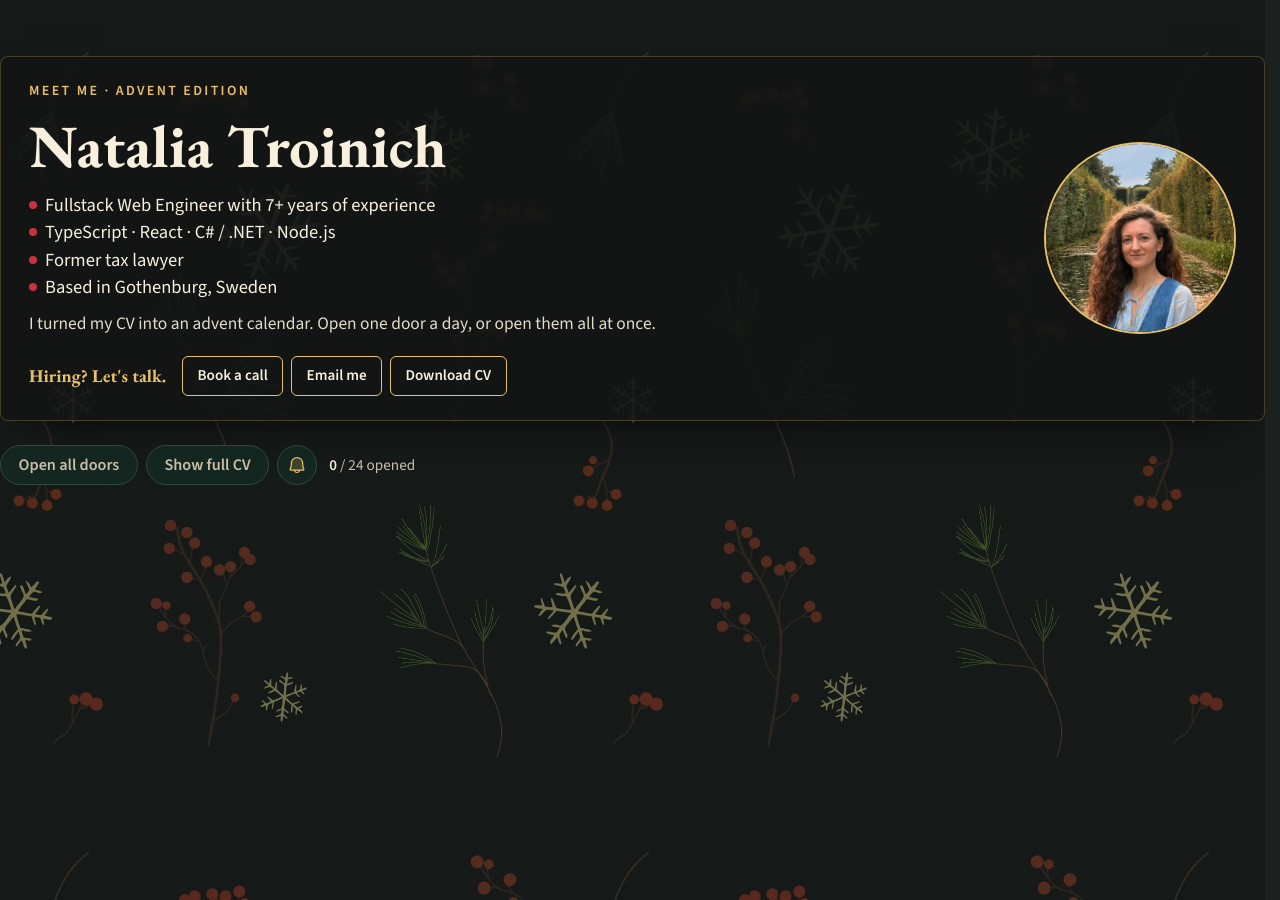
Test: Header photo zoom › clicking the photo opens a large version
The image size is (1280, 900).
Step 1. Click the button named "Say hej: photo and intro" → (1140, 238), box [1044, 142, 1236, 334]
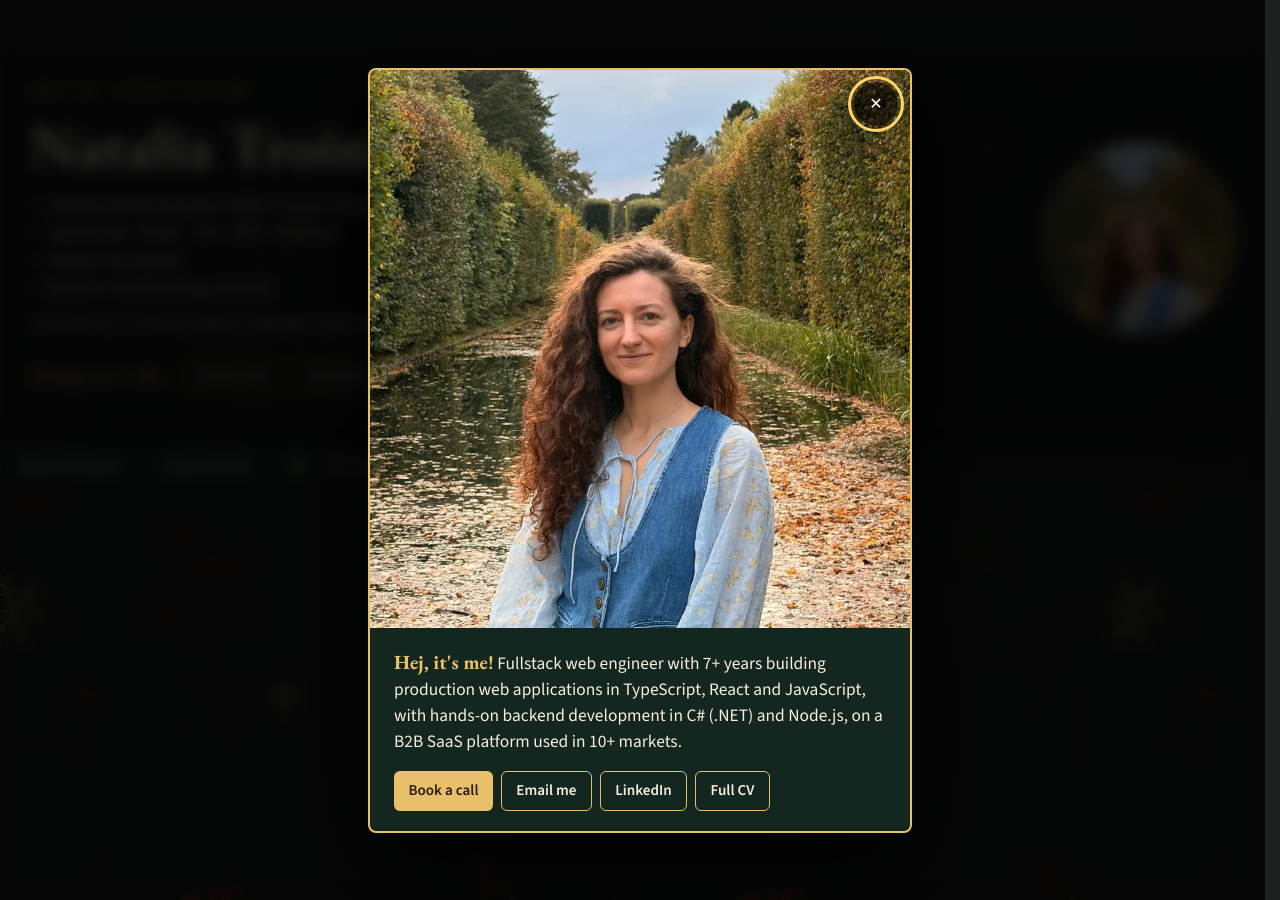
Result: the dialog named "Photo of Natalia Troinich" shows "Hej, it's me! Fullstack web engineer with 7+ years building production web applications in TypeScript, React and JavaScript" at [368, 68, 912, 832]
